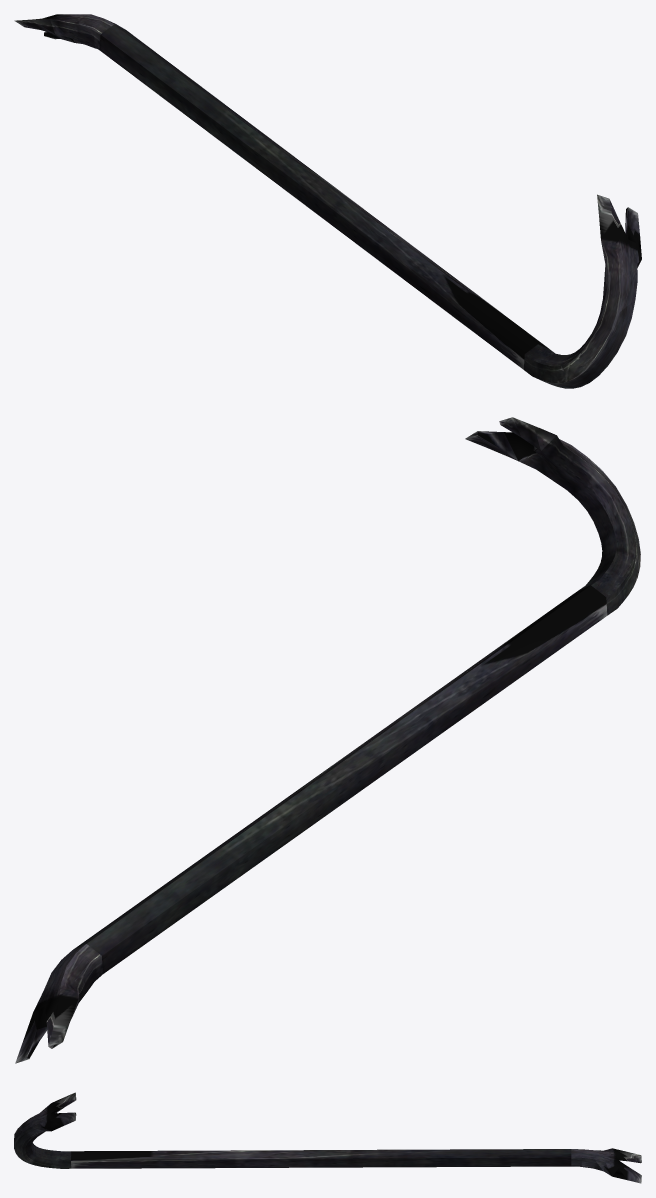
File: crow2_small.glb
3 renders of one model, top to bottom at view 1: azimuth 30°, elevation 25°; view 2: azimuth 150°, elevation 25°; view 3: azimuth 270°, elevation 25°, orthographic. The views are drawn at different scales.
Parts seen in each view (by area): view 1: body; view 2: body; view 3: body.
Part boxes in pixels (left/top/right/bottom): body: left=14, top=14, right=641, bottom=388; body: left=15, top=417, right=640, bottom=1063; body: left=14, top=1092, right=641, bottom=1183.
Size of the model in its own units: 0.0693 by 0.0872 by 0.46.
Materials: 1 (1 with a texture image).
